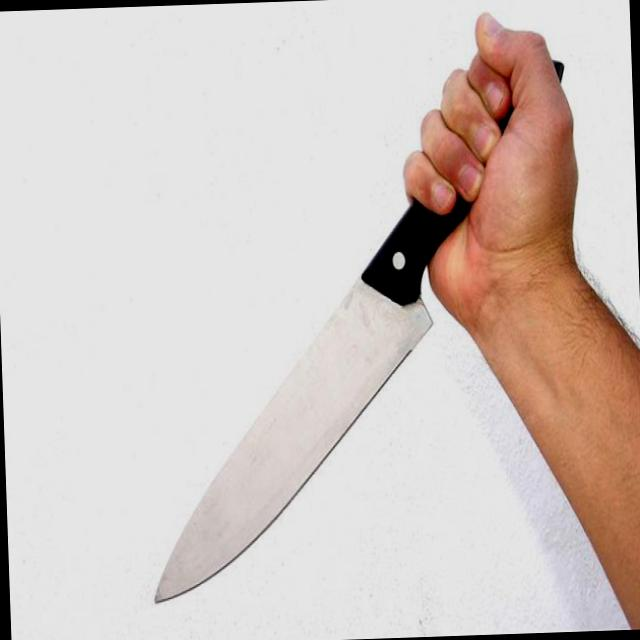knife: (125, 117, 519, 618)
